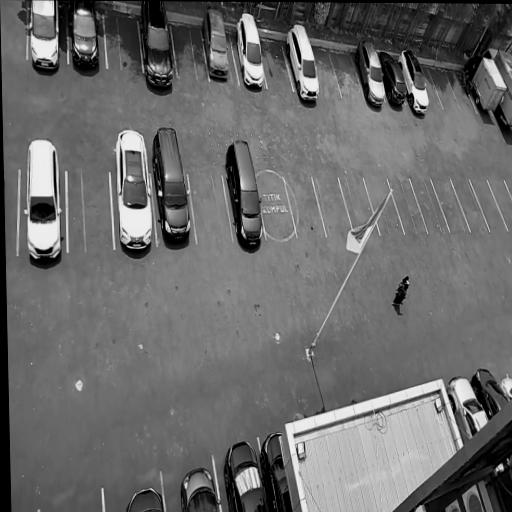Car: (19, 133, 68, 273), (149, 118, 195, 261), (112, 122, 154, 265), (219, 134, 267, 252), (139, 1, 177, 94), (280, 21, 322, 104), (231, 4, 270, 92), (221, 437, 266, 512), (445, 372, 490, 446), (462, 47, 509, 116), (67, 1, 105, 79), (28, 0, 66, 76), (199, 7, 237, 83), (396, 46, 434, 119), (260, 431, 294, 512), (350, 38, 390, 105), (465, 364, 510, 420), (375, 46, 411, 109), (176, 464, 218, 512), (120, 479, 166, 512), (497, 373, 512, 402)
Space Available: (67, 168, 114, 252), (189, 172, 233, 242), (284, 175, 326, 237), (313, 176, 353, 237), (104, 10, 143, 71), (339, 176, 380, 234), (387, 177, 428, 235), (364, 175, 404, 234), (257, 178, 296, 238), (410, 178, 451, 234), (170, 22, 208, 81), (431, 178, 471, 233), (450, 177, 489, 233), (470, 179, 508, 232), (260, 36, 293, 91), (329, 49, 363, 99), (0, 0, 27, 60), (312, 45, 341, 97), (427, 65, 460, 110), (487, 179, 512, 231), (421, 64, 444, 109)
